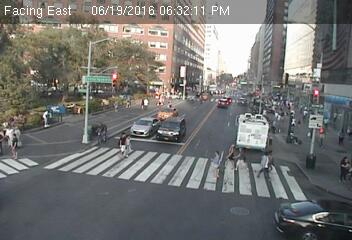neg: (170, 96, 190, 122), (274, 68, 293, 93), (205, 100, 223, 124), (18, 155, 35, 178), (86, 118, 103, 140), (148, 112, 161, 129)
pos: (203, 149, 225, 178), (333, 153, 351, 183), (234, 146, 253, 171), (38, 107, 55, 130), (330, 123, 347, 145)
